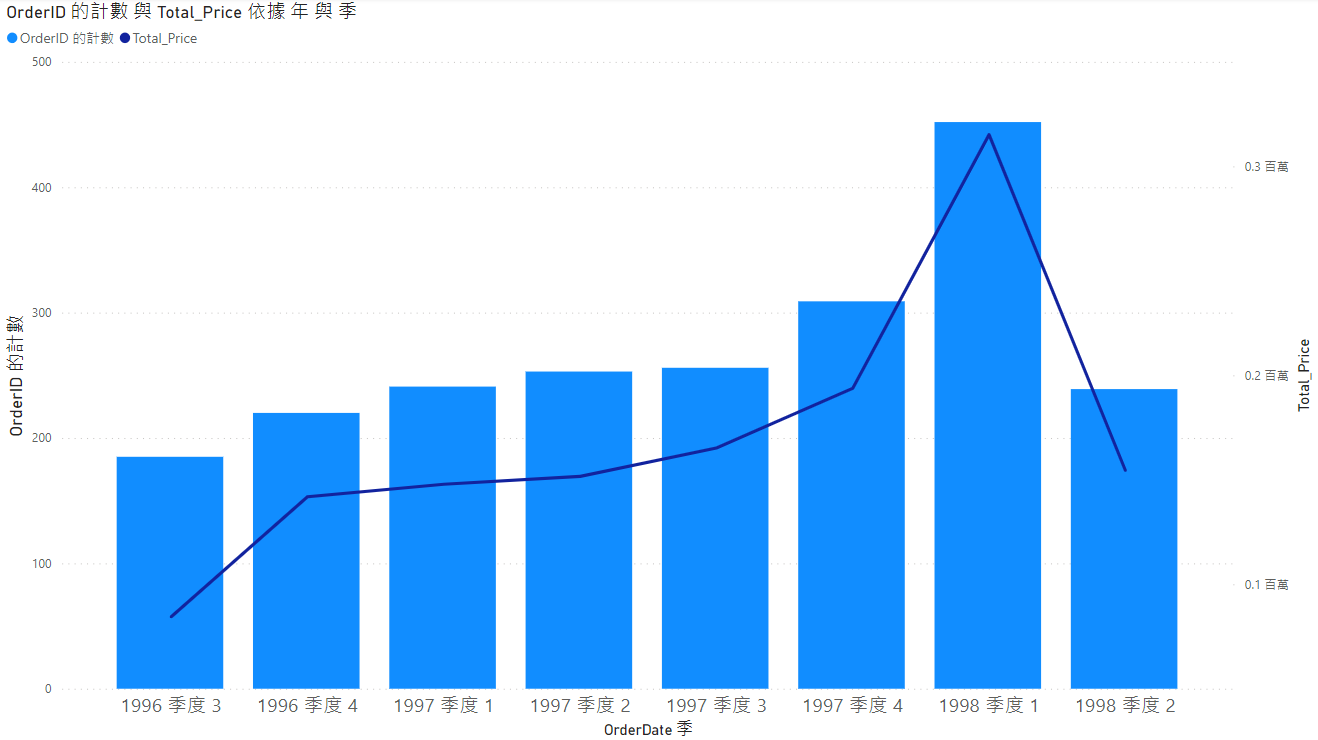

What the dashboard file says about the page in this screenshot:
{"tool":"powerbi","page":{"name":"組合圖","canvas":[1280,720],"ordinal":2},"visuals":[{"type":"lineStackedColumnComboChart","fields":{"Category":["Orders.OrderDate.變化.日期階層.年","Orders.OrderDate.變化.日期階層.季","Orders.OrderDate.變化.日期階層.月","Orders.OrderDate.變化.日期階層.日"],"Y2":["Sum(Order Details.Total_Price)"],"Y":["CountNonNull(Order Details.OrderID)"]},"box":[9.6,0,1269.9,720],"z":0}]}

Visuals, with their boxes in screenshot pixels (x1, y1, x2, y2), scaled from the page's 1280x720 canvas onto the 1318x740 screenshot:
lineStackedColumnComboChart - Orders.OrderDate.變化.日期階層.年 x Orders.OrderDate.變化.日期階層.季: detection(10, 0, 1317, 739)
